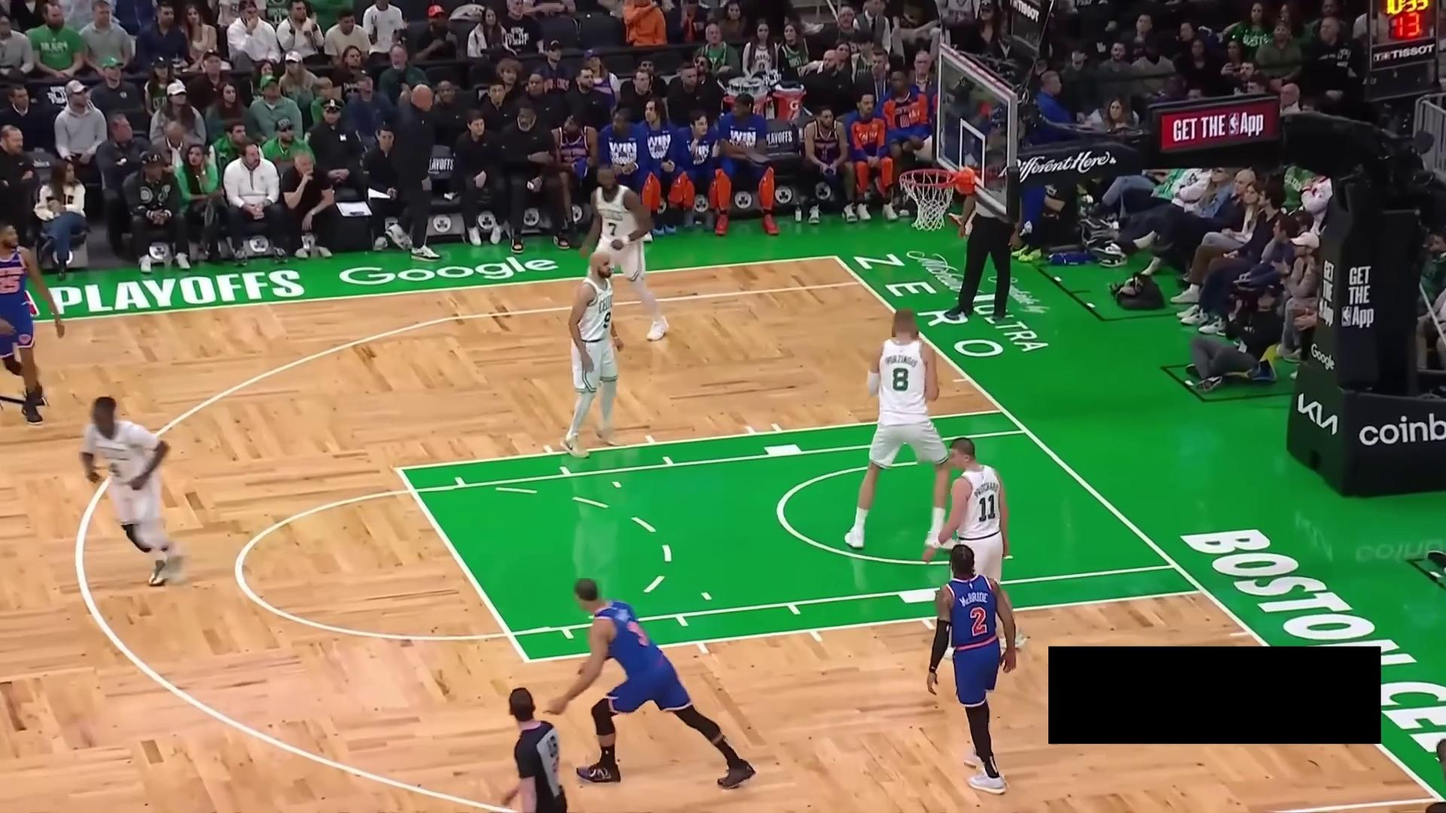number: (625, 618, 650, 646), (976, 493, 995, 522), (891, 367, 910, 392), (971, 606, 987, 635), (0, 273, 21, 294), (607, 221, 618, 237), (603, 311, 611, 329)
player: (543, 576, 757, 790), (846, 307, 961, 553), (926, 543, 1018, 796), (922, 436, 1023, 653), (80, 394, 190, 588), (579, 162, 668, 343), (0, 221, 65, 423), (560, 258, 622, 459)
referee: (949, 185, 1020, 321), (501, 686, 570, 813)
rim: (901, 168, 961, 190)
